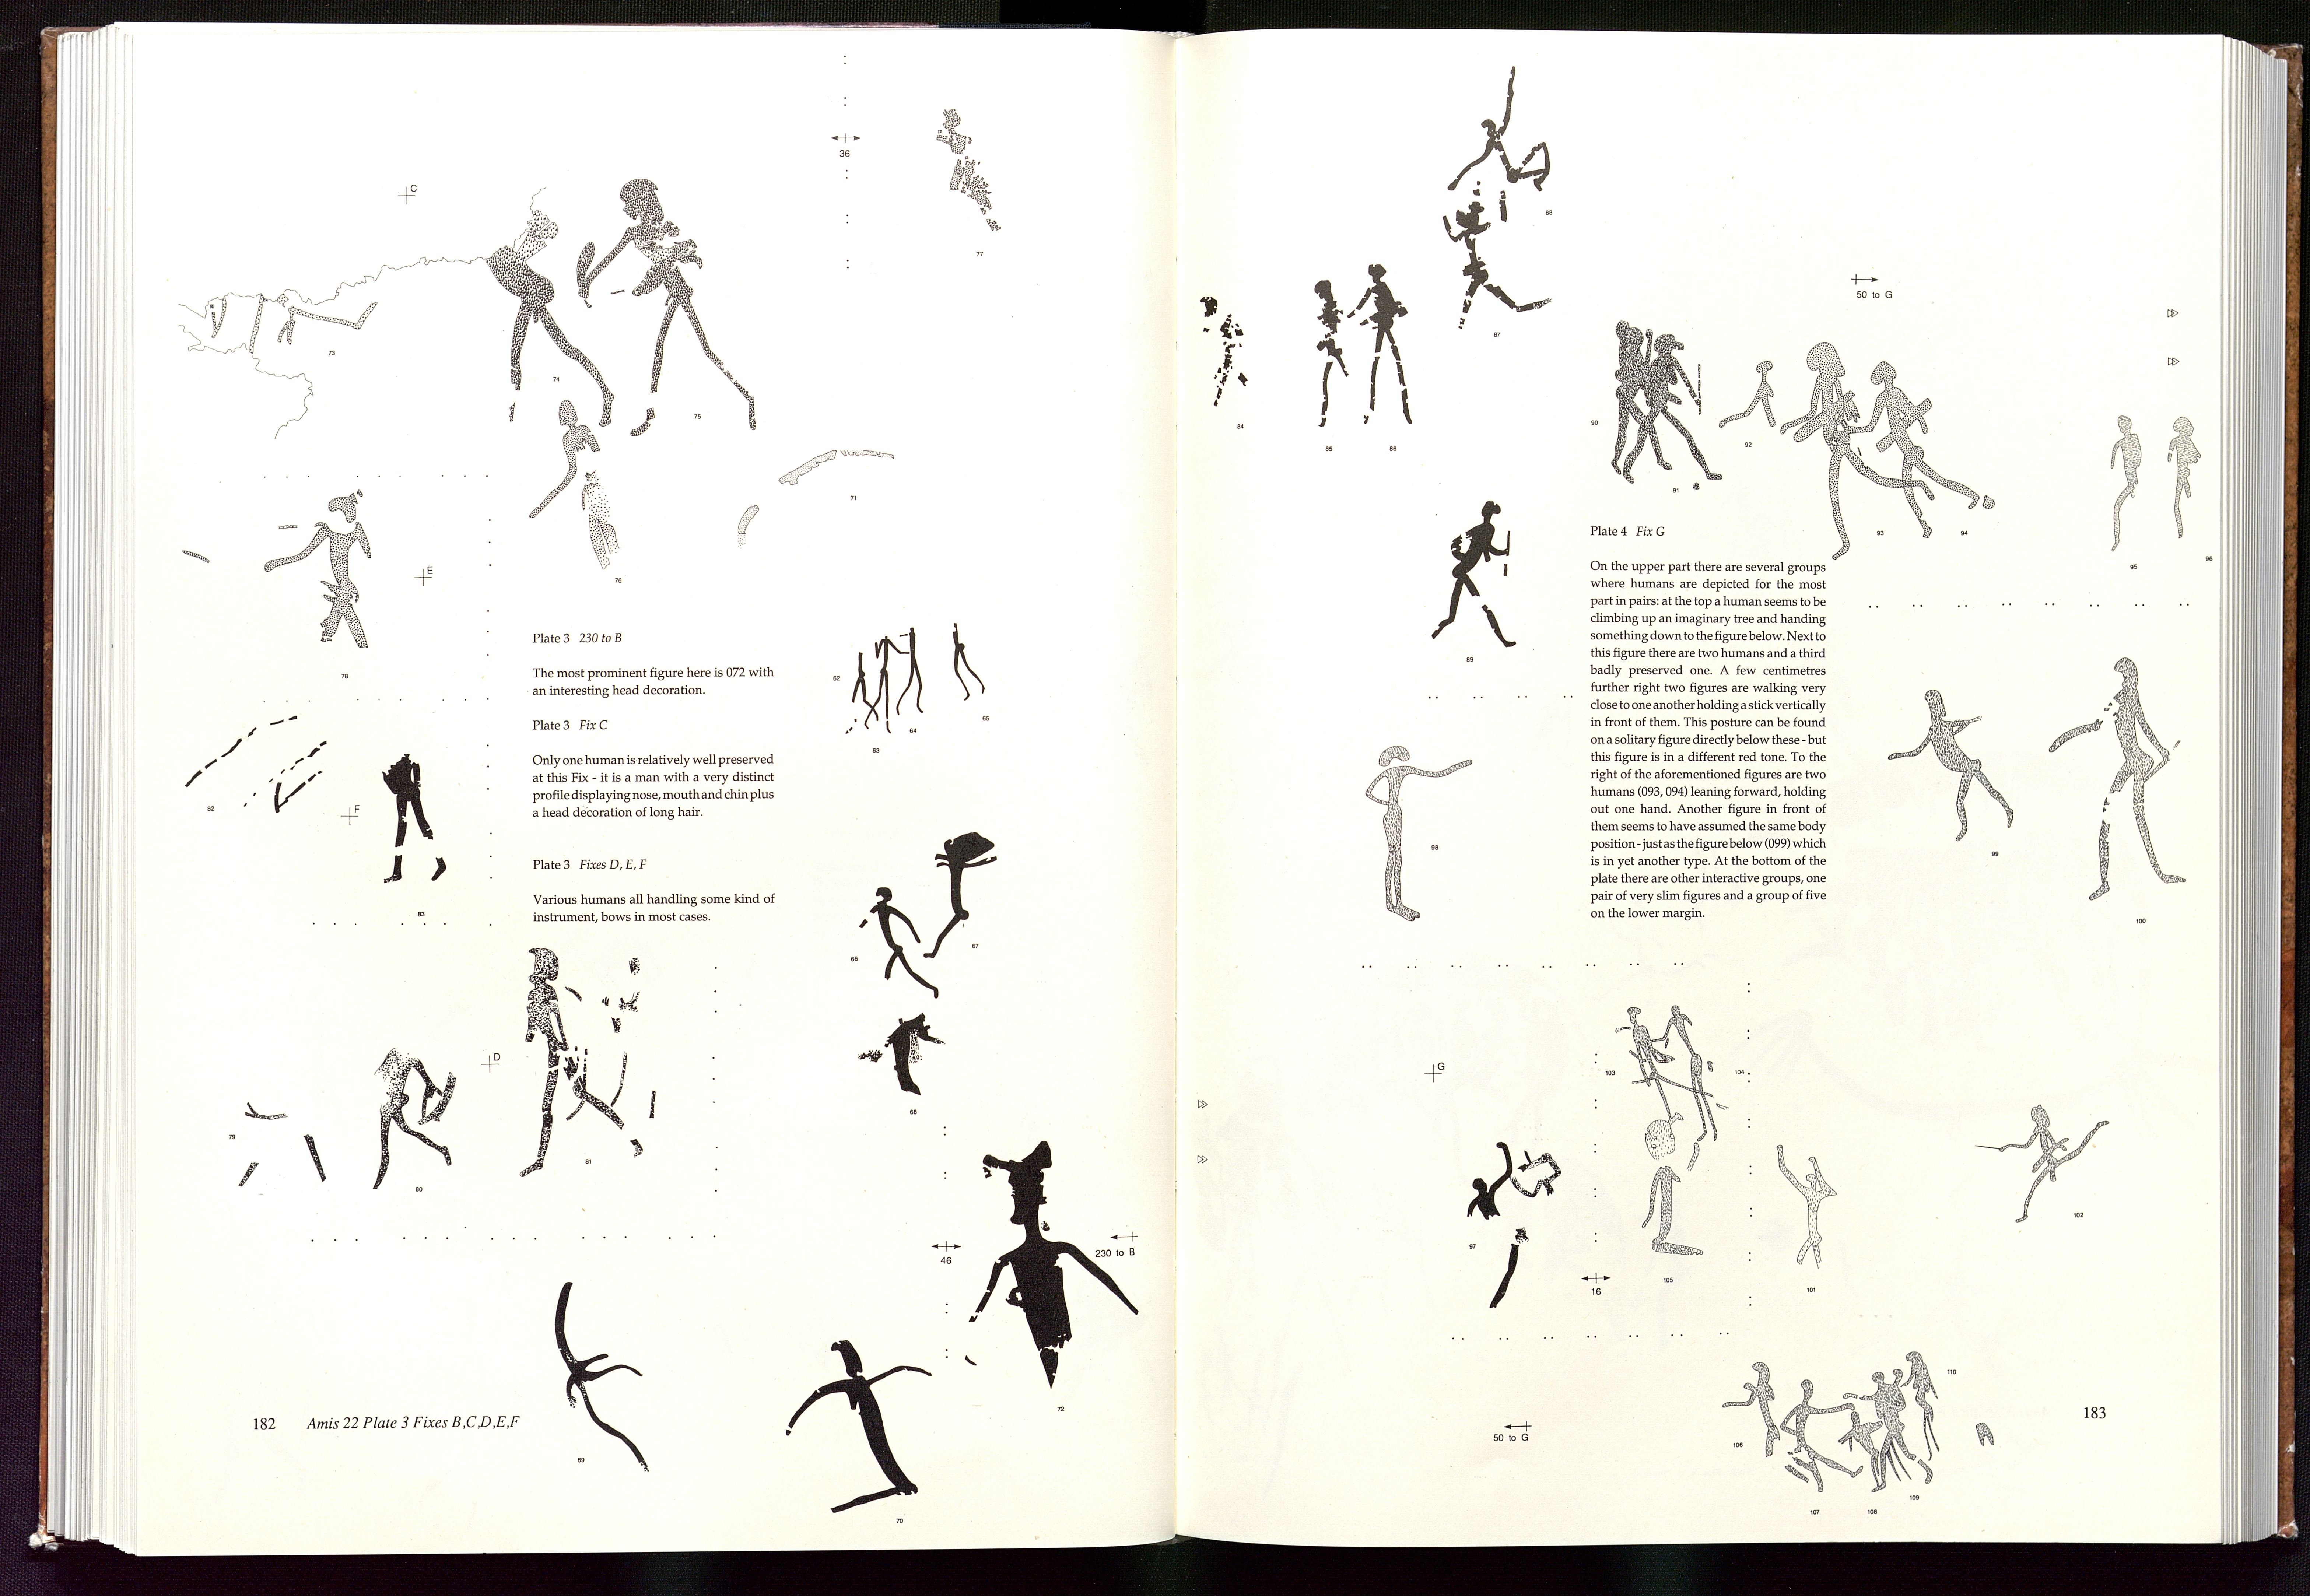human: (574, 175, 766, 436), (968, 1145, 1139, 1397), (2039, 654, 2189, 903), (1781, 336, 1937, 563), (518, 941, 645, 1183), (1847, 361, 2001, 542), (782, 1339, 937, 1519), (259, 489, 389, 651), (1886, 688, 2017, 843), (1367, 740, 1473, 930), (1620, 327, 1728, 501), (1968, 1102, 2113, 1227), (529, 399, 629, 579), (1438, 186, 1553, 333), (1444, 65, 1556, 217), (1458, 1139, 1532, 1333), (1427, 502, 1520, 656), (367, 1048, 456, 1195), (1310, 276, 1374, 457), (1612, 327, 1682, 488), (1650, 1003, 1728, 1146), (853, 884, 940, 1003), (1778, 1378, 1865, 1497), (854, 1012, 950, 1117), (1858, 1369, 1937, 1492), (937, 108, 1010, 237), (1772, 1140, 1843, 1271), (384, 743, 446, 885), (1719, 358, 1790, 443), (1897, 1350, 1949, 1465), (2105, 410, 2144, 553), (1724, 1361, 1778, 1463), (2166, 414, 2205, 547), (862, 632, 898, 732), (844, 651, 887, 737), (891, 626, 926, 716), (950, 622, 987, 703)
